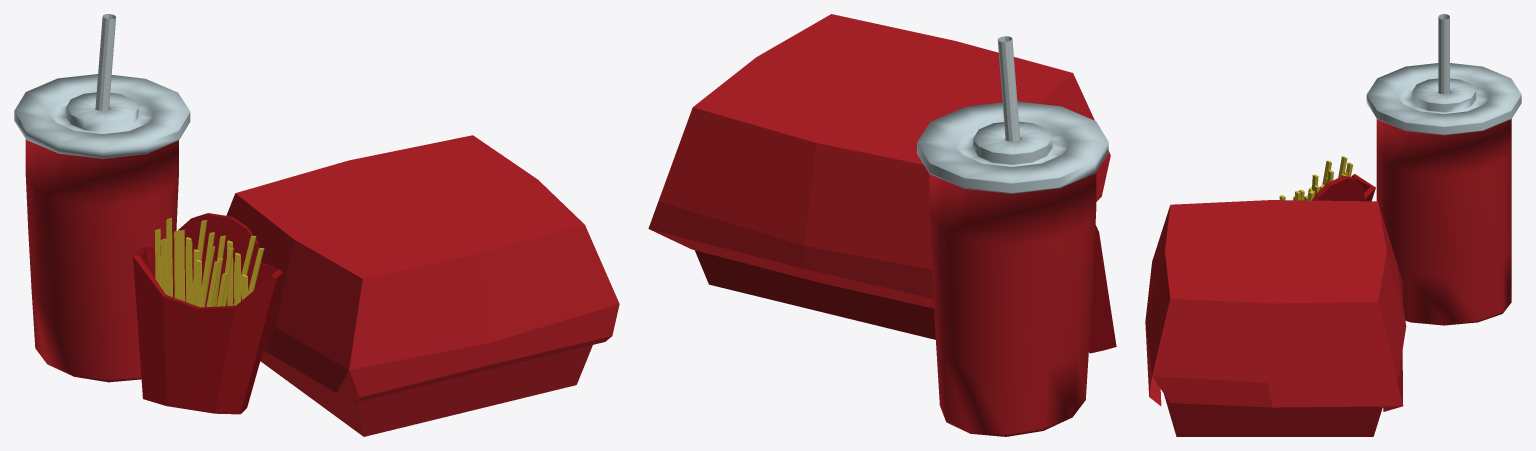
The model's file is packaging.glb.
3 renders of one model, left to right at view 1: azimuth 30°, elevation 25°; view 2: azimuth 150°, elevation 25°; view 3: azimuth 270°, elevation 25°, orthographic. The views are drawn at different scales.
Parts seen in each view (by area): view 1: Object_7, Object_3, Object_8; view 2: Object_7, Object_8, Object_3; view 3: Object_7, Object_8, Object_3.
Part boxes in pixels (left/top/right/bottom): Object_7: left=25, top=108, right=619, bottom=436; Object_3: left=96, top=14, right=282, bottom=414; Object_8: left=14, top=14, right=190, bottom=158; Object_7: left=648, top=14, right=1110, bottom=436; Object_8: left=917, top=36, right=1108, bottom=193; Object_3: left=998, top=36, right=1116, bottom=353; Object_7: left=1145, top=92, right=1511, bottom=436; Object_8: left=1366, top=14, right=1521, bottom=135; Object_3: left=1279, top=14, right=1449, bottom=201.
Size of the model in its own units: 6.49 by 4.72 by 5.58.
Materials: 3 (3 with a texture image).
